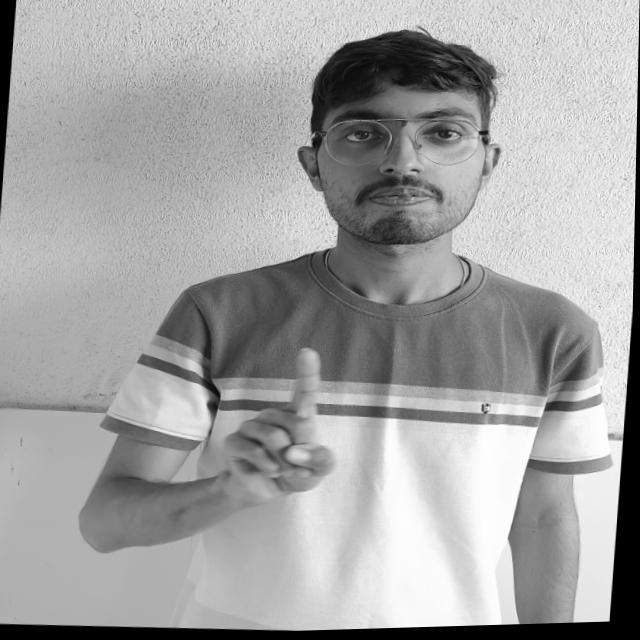Question: (191, 330, 399, 528)
